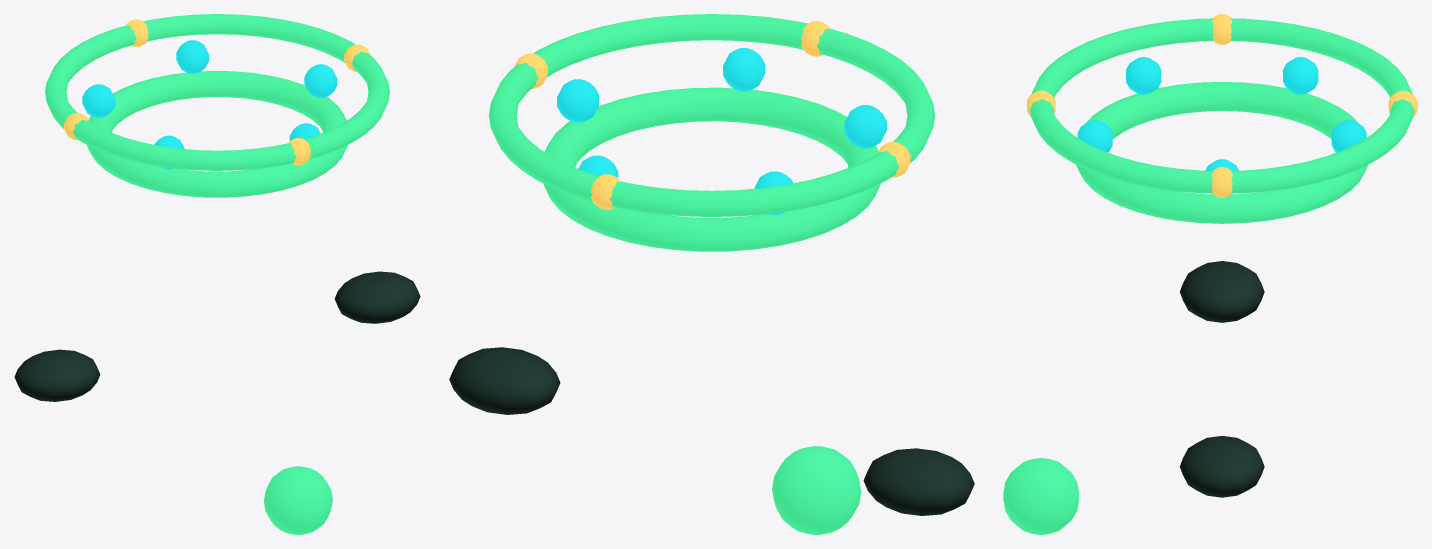
The model's file is avatar-verdejante-kit-boss-final.glb.
3 views of the same model, side by side, from view 1: azimuth 30°, elevation 25°; view 2: azimuth 150°, elevation 25°; view 3: azimuth 270°, elevation 25° (orthographic). The views are drawn at different scales.
Parts seen in each view (by area): view 1: kit_verdejante_boss-final_halo, kit_verdejante_boss-final_cycleCrownRing, kit_verdejante_boss-final_core, kit_verdejante_boss-final_capCurveR, kit_verdejante_boss-final_capCurveL, kit_verdejante_boss-final_cycleCrownSpike3, kit_verdejante_boss-final_cycleCrownSpike0, kit_verdejante_boss-final_cycleCrownSpike4; view 2: kit_verdejante_boss-final_halo, kit_verdejante_boss-final_cycleCrownRing, kit_verdejante_boss-final_core, kit_verdejante_boss-final_capCurveL, kit_verdejante_boss-final_capCurveR, kit_verdejante_boss-final_cycleCrownSpike2, kit_verdejante_boss-final_cycleCrownSpike1, kit_verdejante_boss-final_cycleCrownSpike0, kit_verdejante_boss-final_haloNode3, kit_verdejante_boss-final_haloNode1; view 3: kit_verdejante_boss-final_halo, kit_verdejante_boss-final_cycleCrownRing, kit_verdejante_boss-final_core, kit_verdejante_boss-final_capCurveR, kit_verdejante_boss-final_capCurveL, kit_verdejante_boss-final_cycleCrownSpike3, kit_verdejante_boss-final_cycleCrownSpike2, kit_verdejante_boss-final_cycleCrownSpike4, kit_verdejante_boss-final_cycleCrownSpike1, kit_verdejante_boss-final_haloNode0, kit_verdejante_boss-final_haloNode2.
Part boxes in pixels (<box>): kit_verdejante_boss-final_halo: <box>45,14,389,170</box>; kit_verdejante_boss-final_cycleCrownRing: <box>87,71,347,197</box>; kit_verdejante_boss-final_core: <box>264,466,332,534</box>; kit_verdejante_boss-final_capCurveR: <box>14,349,100,401</box>; kit_verdejante_boss-final_capCurveL: <box>334,271,420,323</box>; kit_verdejante_boss-final_cycleCrownSpike3: <box>82,84,115,117</box>; kit_verdejante_boss-final_cycleCrownSpike0: <box>304,64,337,97</box>; kit_verdejante_boss-final_cycleCrownSpike4: <box>176,40,208,73</box>; kit_verdejante_boss-final_halo: <box>488,14,935,216</box>; kit_verdejante_boss-final_cycleCrownRing: <box>543,87,880,251</box>; kit_verdejante_boss-final_core: <box>772,446,861,534</box>; kit_verdejante_boss-final_capCurveL: <box>449,347,560,414</box>; kit_verdejante_boss-final_capCurveR: <box>863,448,974,515</box>; kit_verdejante_boss-final_cycleCrownSpike2: <box>844,105,886,148</box>; kit_verdejante_boss-final_cycleCrownSpike1: <box>723,48,765,91</box>; kit_verdejante_boss-final_cycleCrownSpike0: <box>557,79,599,122</box>; kit_verdejante_boss-final_haloNode3: <box>591,174,620,209</box>; kit_verdejante_boss-final_haloNode1: <box>801,21,830,56</box>; kit_verdejante_boss-final_halo: <box>1030,18,1414,193</box>; kit_verdejante_boss-final_cycleCrownRing: <box>1076,82,1368,223</box>; kit_verdejante_boss-final_core: <box>1003,458,1078,534</box>; kit_verdejante_boss-final_capCurveR: <box>1180,261,1264,322</box>; kit_verdejante_boss-final_capCurveL: <box>1179,436,1264,497</box>; kit_verdejante_boss-final_cycleCrownSpike3: <box>1283,57,1318,94</box>; kit_verdejante_boss-final_cycleCrownSpike2: <box>1126,57,1161,94</box>; kit_verdejante_boss-final_cycleCrownSpike4: <box>1331,120,1366,152</box>; kit_verdejante_boss-final_cycleCrownSpike1: <box>1077,120,1112,152</box>; kit_verdejante_boss-final_haloNode0: <box>1211,167,1232,197</box>; kit_verdejante_boss-final_haloNode2: <box>1212,14,1232,44</box>.
Bounding box in the file's own units: 0.596 × 0.563 × 0.4806.
